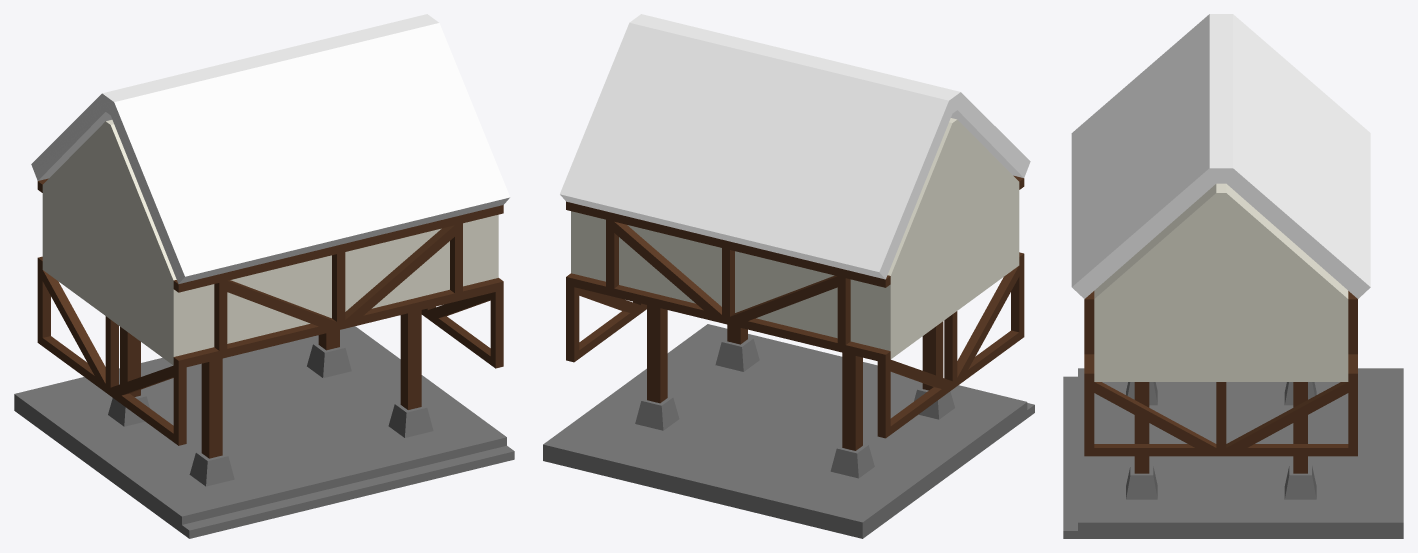
The model's file is Guild Hall Long.fbx.
3 renders of one model, left to right at view 1: azimuth 30°, elevation 25°; view 2: azimuth 150°, elevation 25°; view 3: azimuth 270°, elevation 25°, orthographic. The views are drawn at different scales.
Visible parts, largest first — view 1: Guild Hall Long; view 2: Guild Hall Long; view 3: Guild Hall Long.
Part boxes in pixels (x1=…): Guild Hall Long: x1=14, y1=14, x2=514, y2=538; Guild Hall Long: x1=543, y1=14, x2=1034, y2=538; Guild Hall Long: x1=1063, y1=14, x2=1403, y2=538.
Bounding box in the file's own units: 100 × 112 × 93.32.
